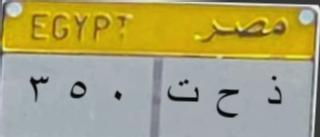0: (110, 84, 126, 108)
3: (23, 70, 53, 108)
5: (63, 76, 90, 107)
7aa: (213, 86, 243, 121)
taa: (167, 77, 202, 110)
zaal: (262, 72, 287, 113)
